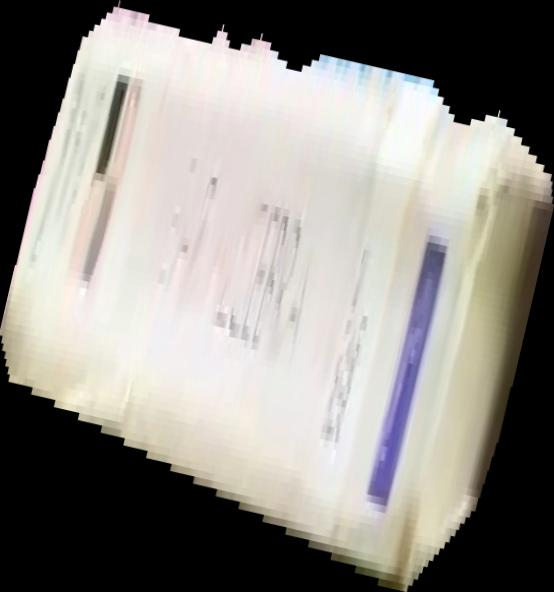flat: (1, 1, 554, 592)
